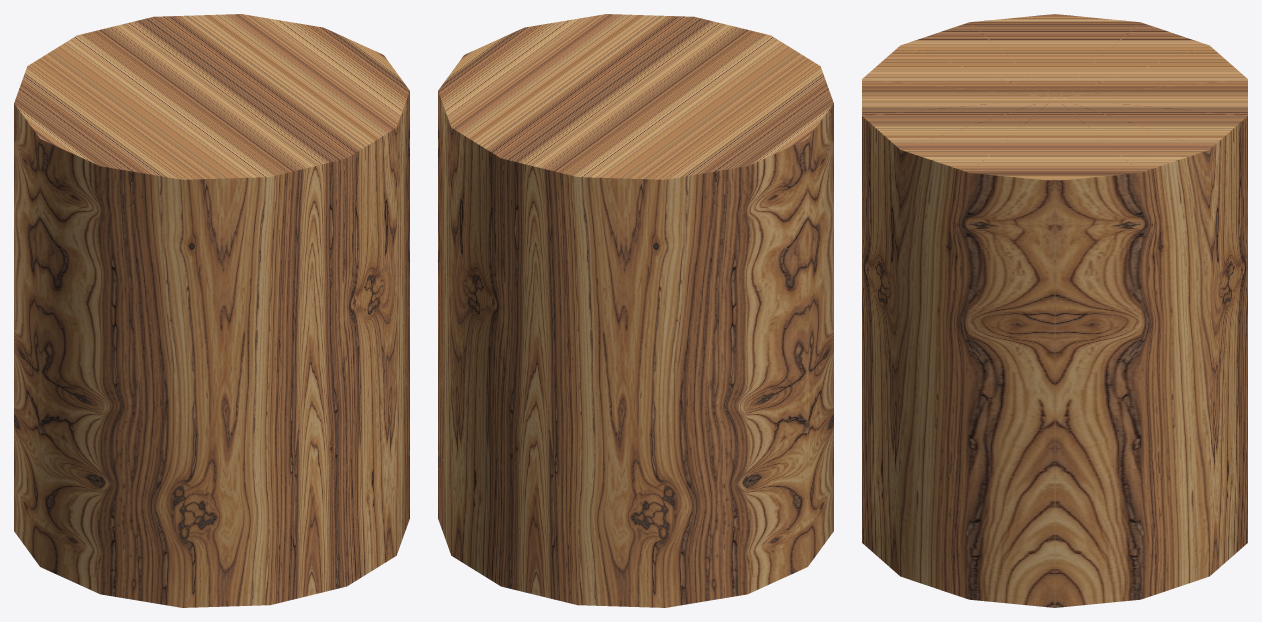
The model's file is teaklogv.glb.
3 views of the same model, side by side, from view 1: azimuth 30°, elevation 25°; view 2: azimuth 150°, elevation 25°; view 3: azimuth 270°, elevation 25° (orthographic).
Parts seen in each view (by area): view 1: Birch_Log_H_Birch; view 2: Birch_Log_H_Birch; view 3: Birch_Log_H_Birch.
Part boxes in pixels (left/top/right/bottom): Birch_Log_H_Birch: left=14, top=14, right=409, bottom=607; Birch_Log_H_Birch: left=438, top=14, right=833, bottom=607; Birch_Log_H_Birch: left=862, top=14, right=1247, bottom=607.
Size of the model in its own units: 0.84 by 1 by 0.8189.
Materials: 1 (1 with a texture image).
